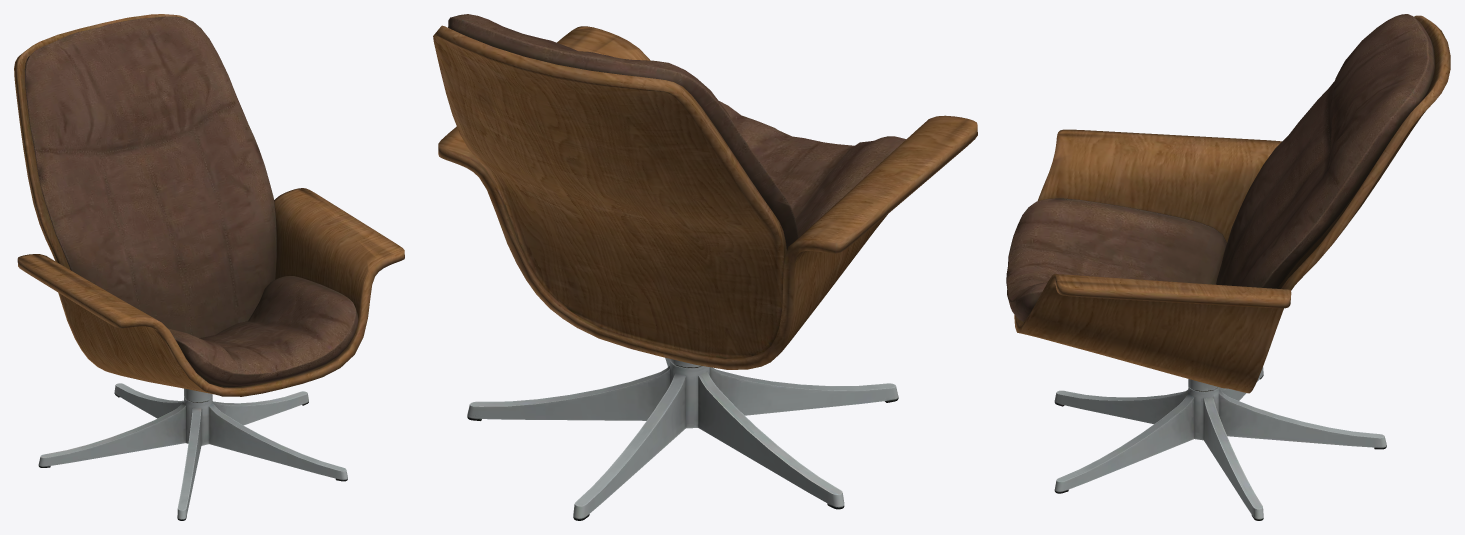
The model's file is f5f8aa7e-aa53-4c35-abb2-6c6c81b30604.glb.
3 renders of one model, left to right at view 1: azimuth 30°, elevation 25°; view 2: azimuth 150°, elevation 25°; view 3: azimuth 270°, elevation 25°, orthographic. The views are drawn at different scales.
Visible parts, largest first — view 1: mid_century_lounge_chair; view 2: mid_century_lounge_chair; view 3: mid_century_lounge_chair.
Part boxes in pixels (<box>): mid_century_lounge_chair: <box>14,14,404,520</box>; mid_century_lounge_chair: <box>433,14,977,520</box>; mid_century_lounge_chair: <box>1006,14,1450,520</box>.
Bounding box in the file's own units: 1.01 × 1.17 × 1.19.
Materials: 1 (1 with a texture image).
